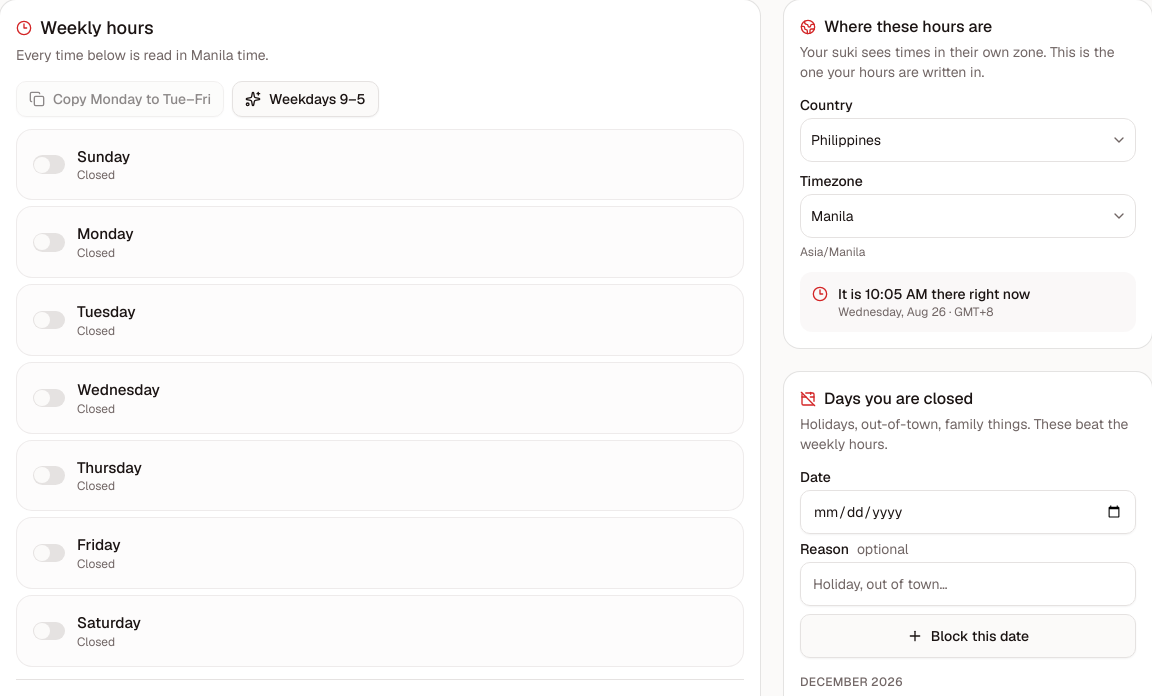
Test: AvailabilityEditor › refuses a date that is already closed before the database has to
In the date field labelled "Date": [968, 512] box 800,490 -> 1136,534, type "2026-12-25"
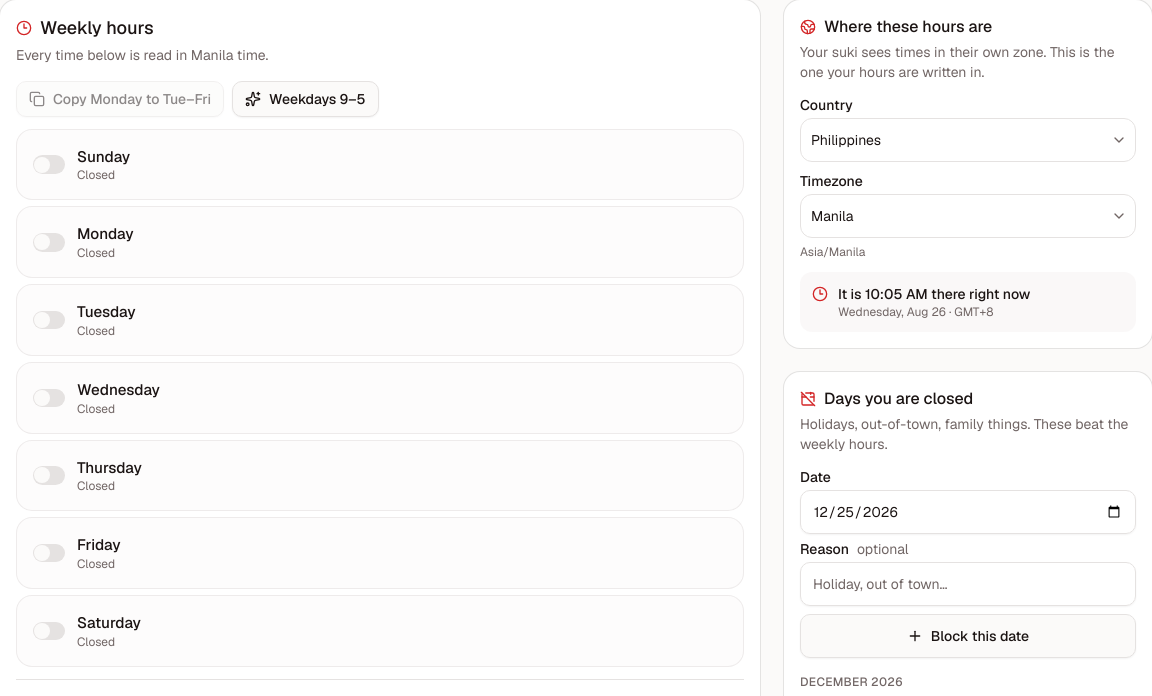
Click the button "Block this date": [968, 636] box 800,614 -> 1136,658
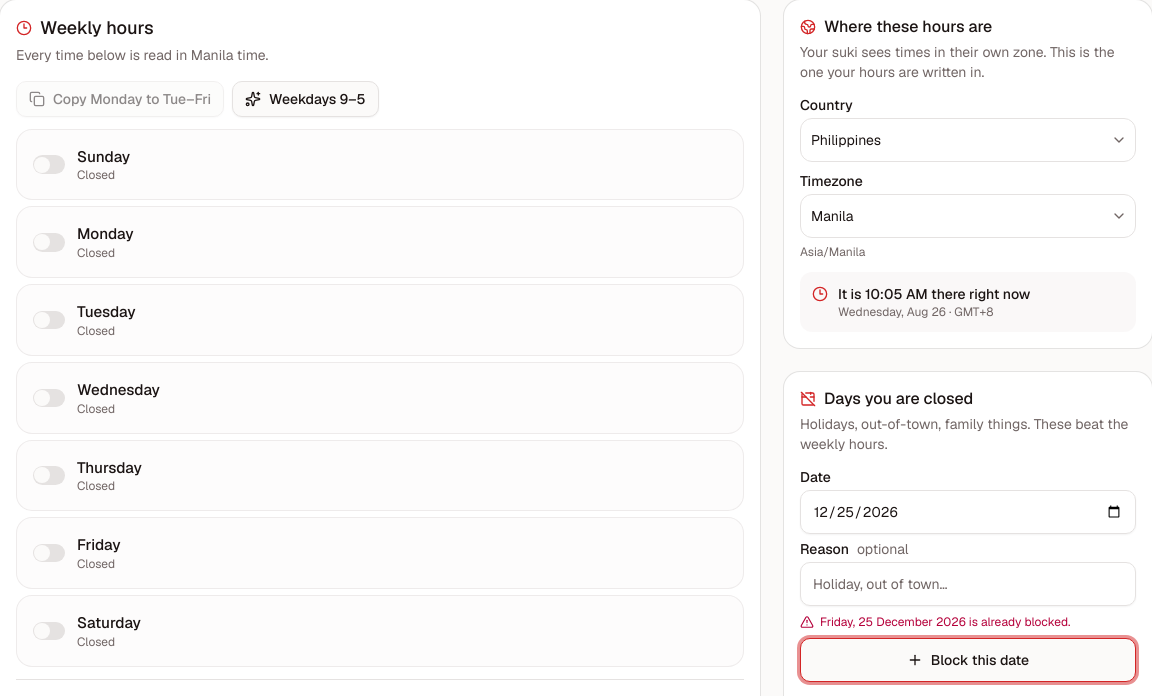
Check: the message reads "Friday, 25 December 2026 is already blocked.", box 820,614 -> 1070,630
